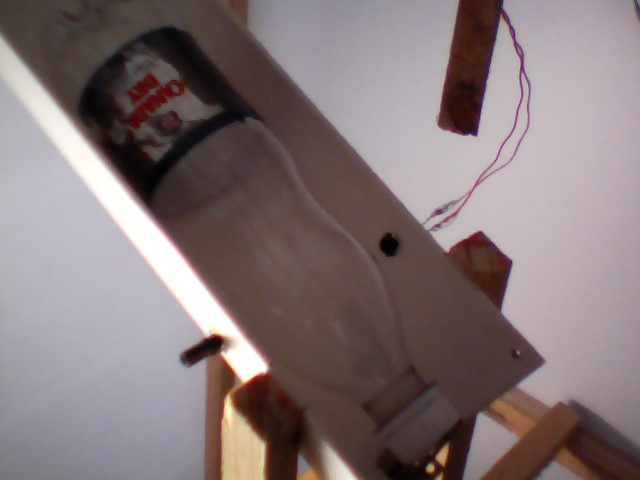plastico: (30, 1, 464, 472)
